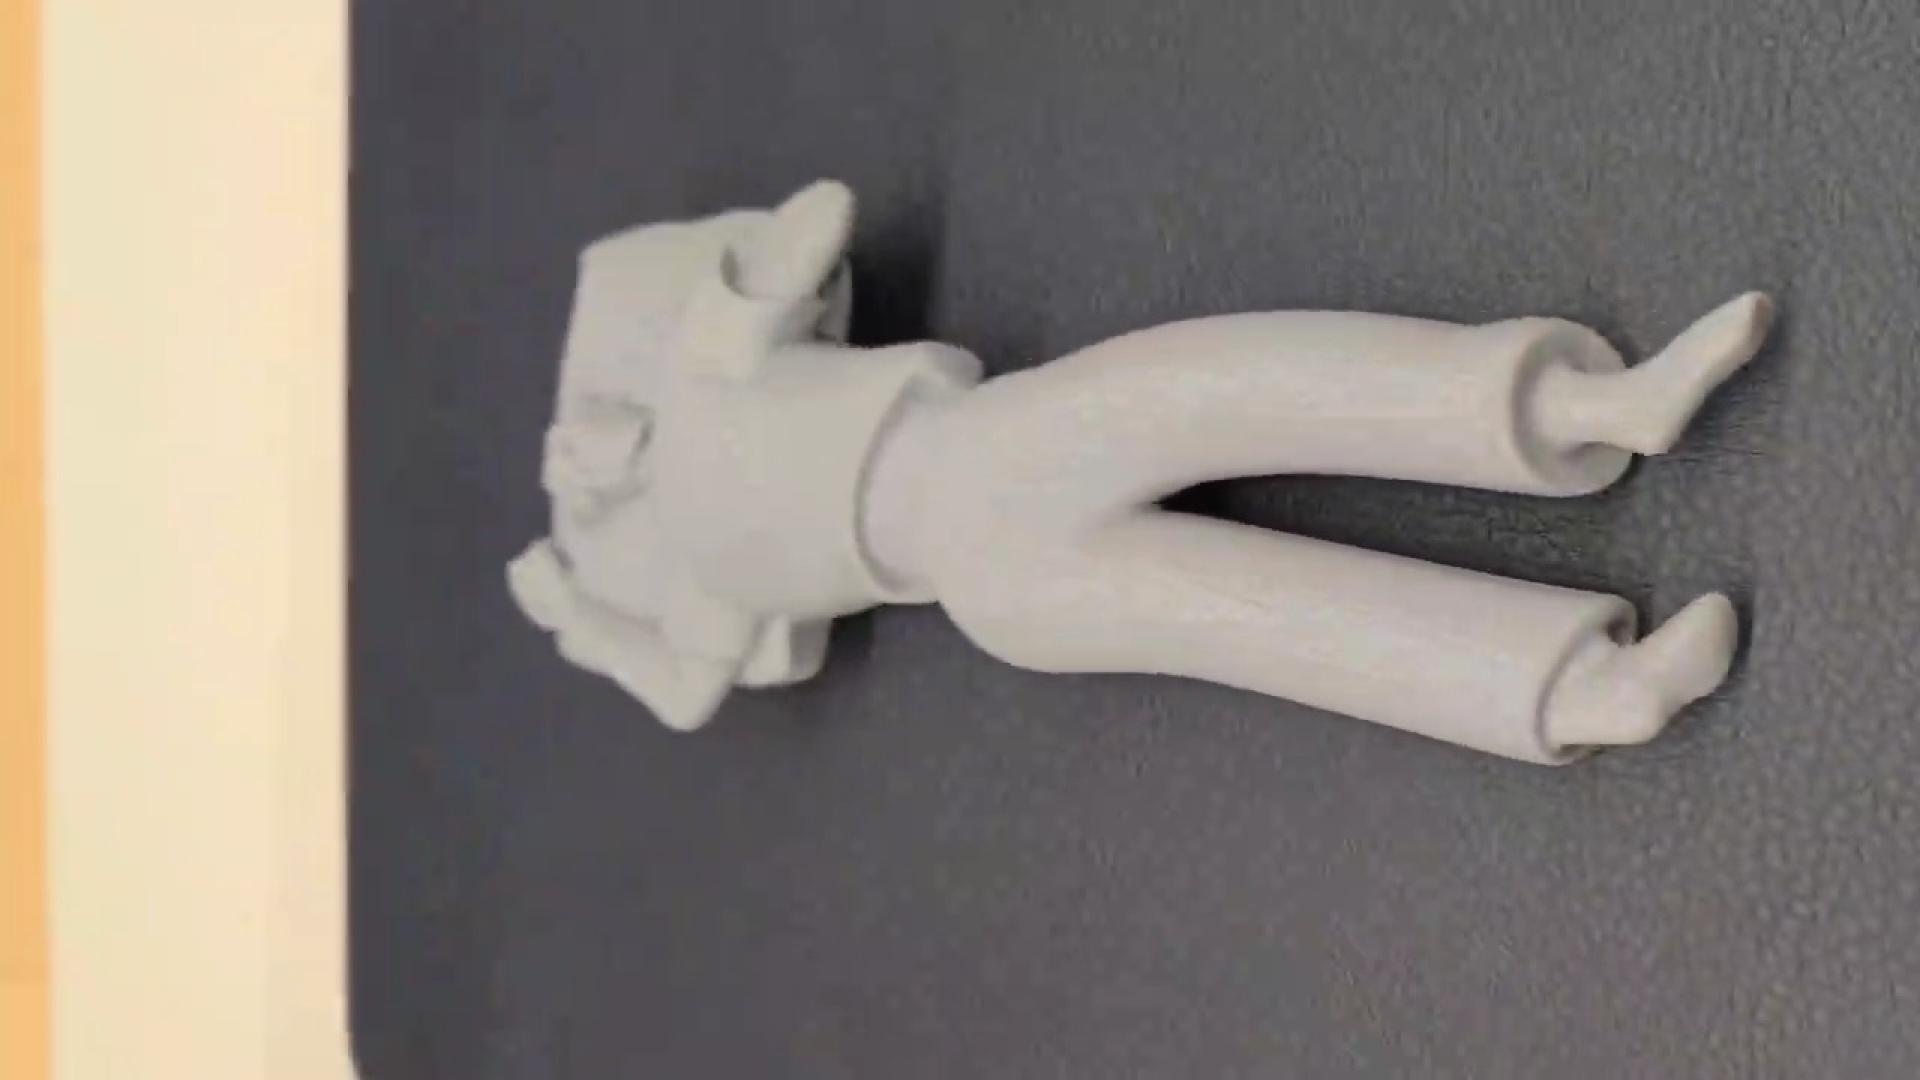Bad-style: (508, 175, 1766, 769)
